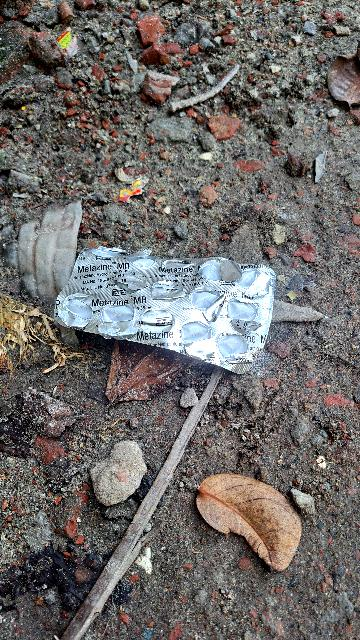medicine: (53, 225, 280, 380)
